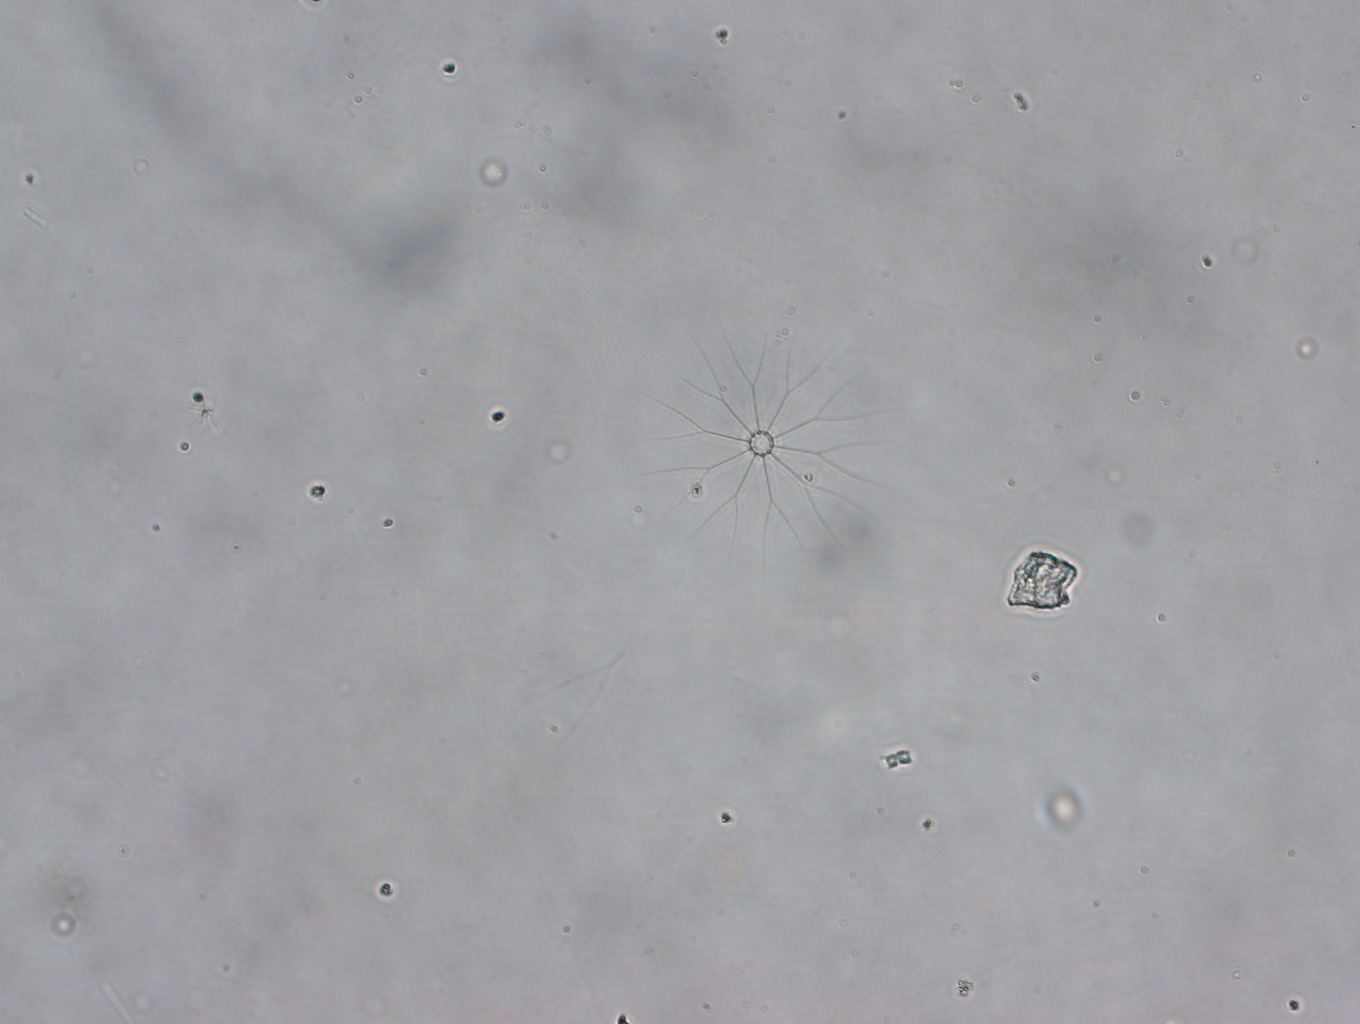bacteriastrum: (638, 327, 886, 561)
